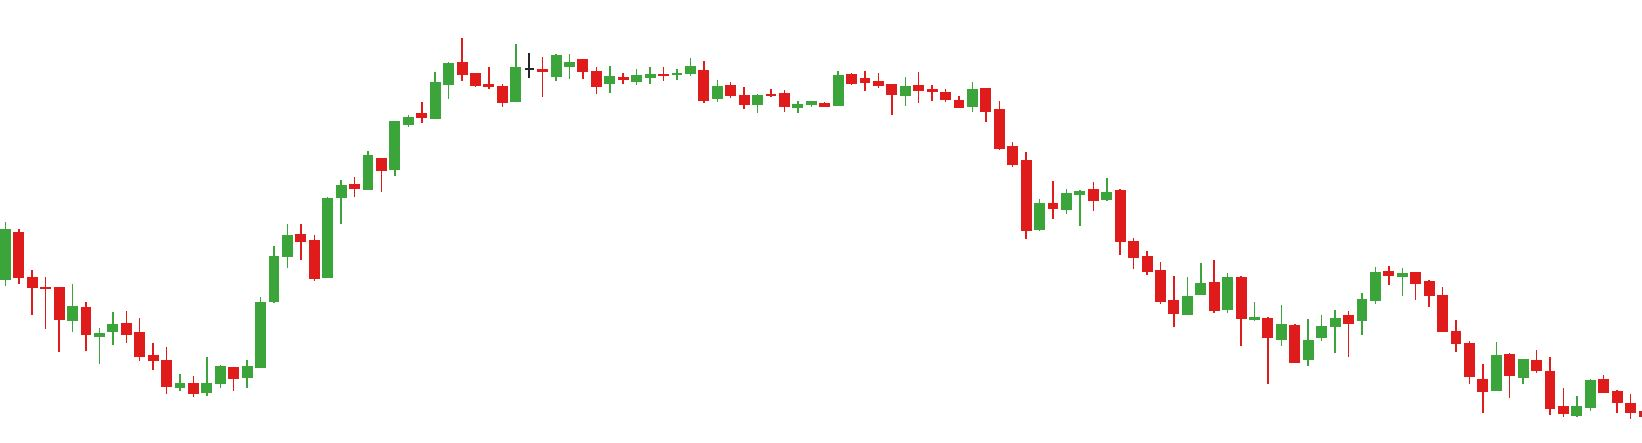sell: (1221, 264, 1424, 334)
